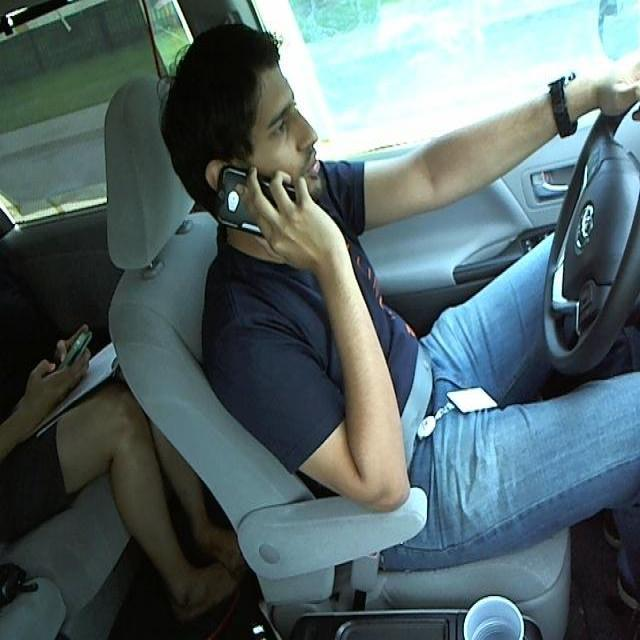using_phone: (139, 14, 349, 309)
